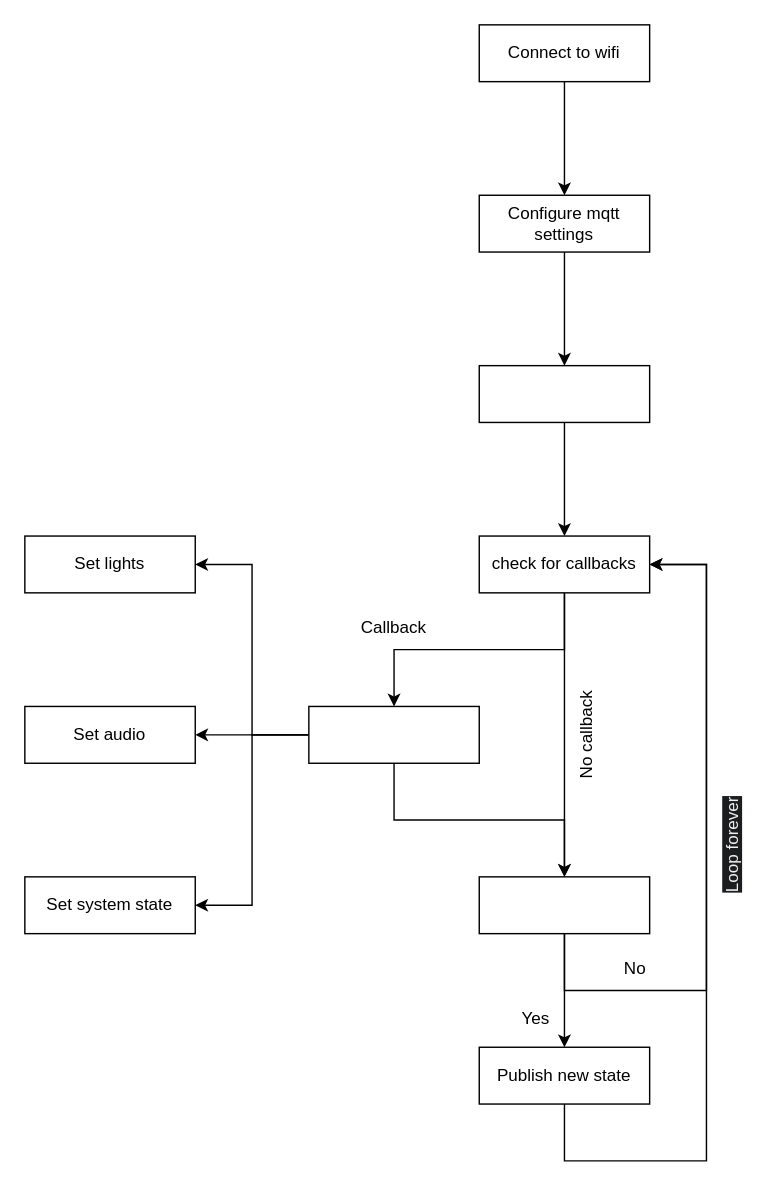
This 780x1197 diagram has some shape labels left out. Each missing label, with the box of its shape:
Connect to mqtt: (478, 364, 650, 422)
State changed ?: (478, 875, 650, 934)
Update tile state: (307, 705, 479, 763)
